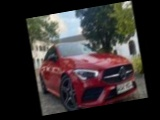car: (33, 31, 139, 115)
